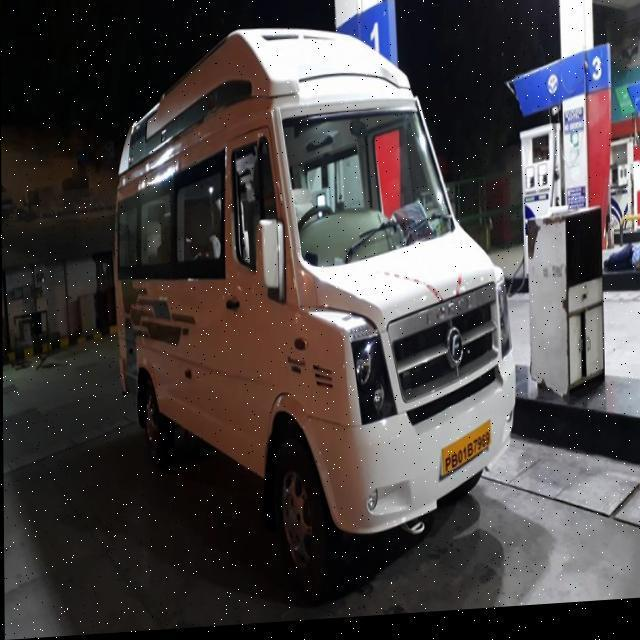Ambulance: (106, 12, 521, 618), (3, 278, 640, 636)
